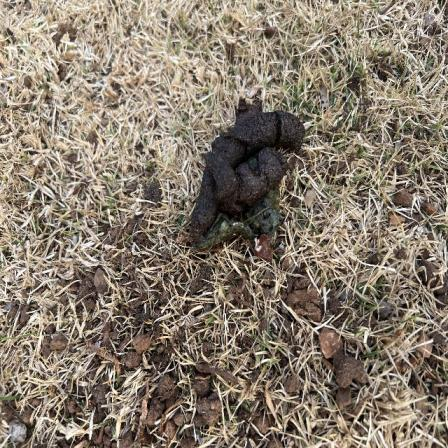dog-poop: (181, 90, 312, 250)
